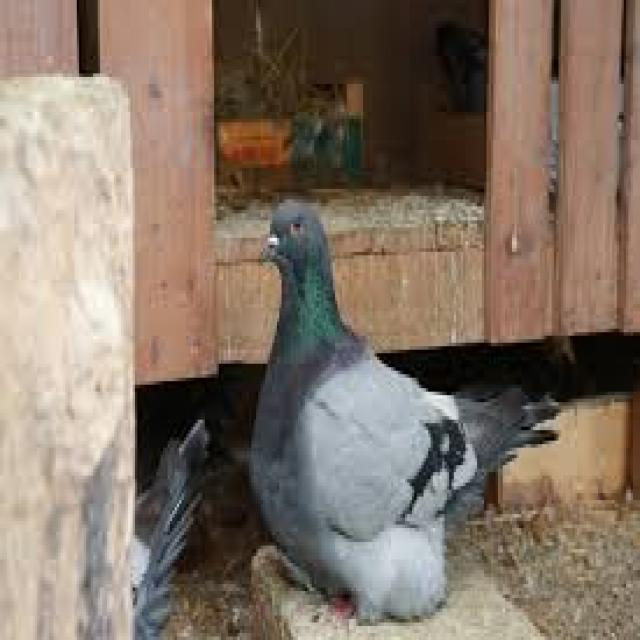pigeon: (240, 172, 565, 624)
